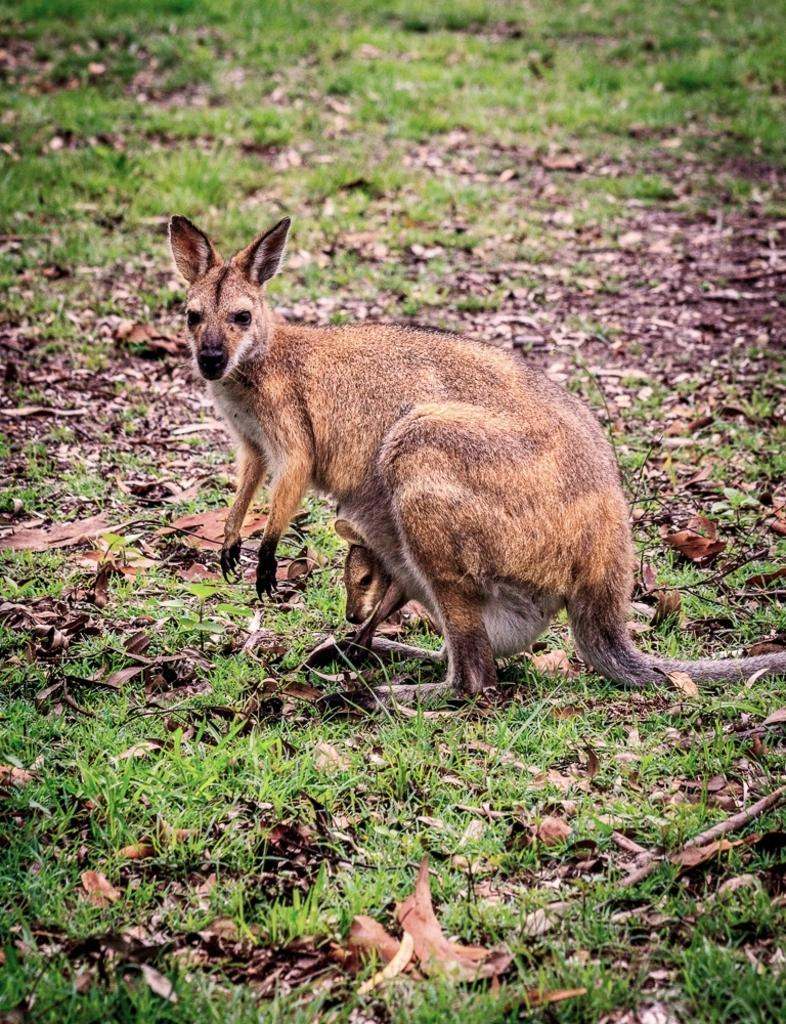kangaroo: (173, 210, 785, 720)
